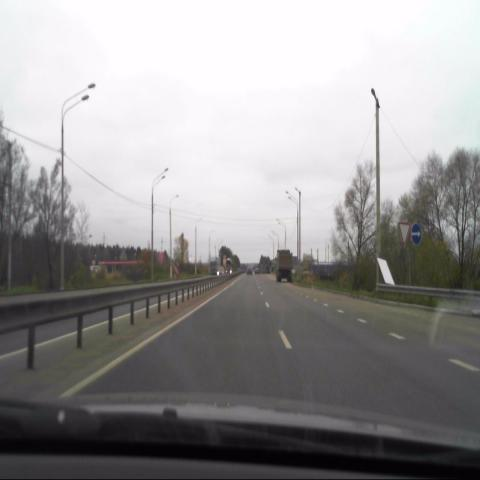2_4: (398, 222, 410, 245)
4_1_2_1: (410, 222, 423, 248)
